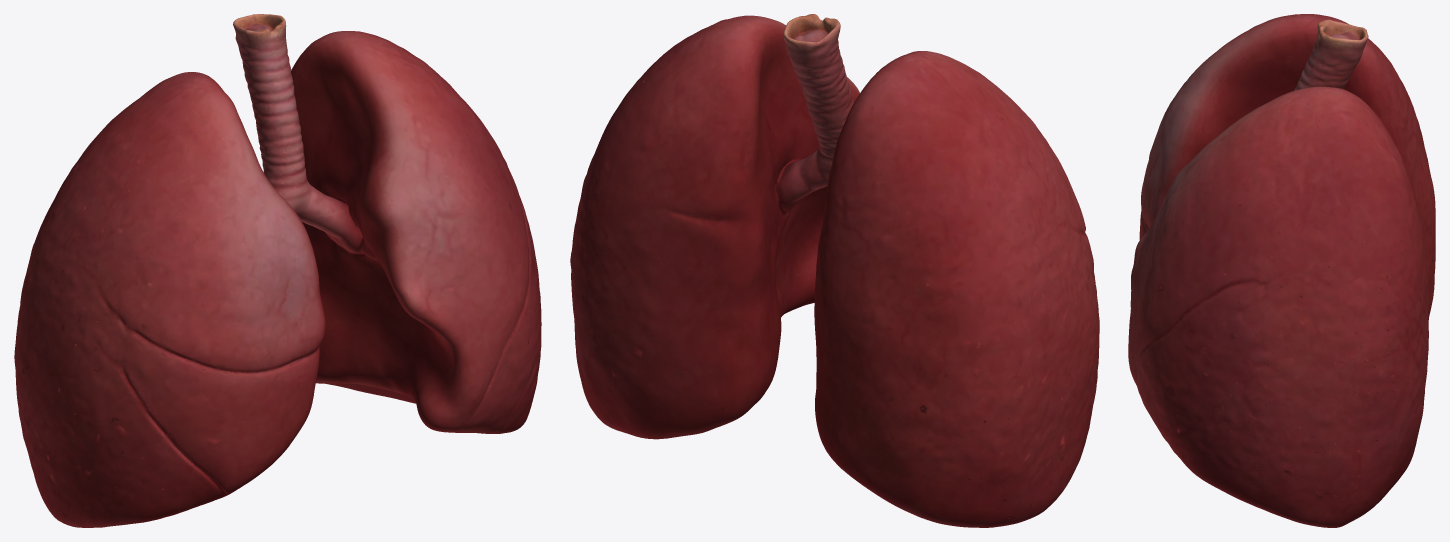
The model's file is Pulmones.glb.
The picture shows the model from 3 angles, left to right: view 1: azimuth 30°, elevation 25°; view 2: azimuth 150°, elevation 25°; view 3: azimuth 270°, elevation 25°; orthographic projection. The views are drawn at different scales.
Visible parts, largest first — view 1: geometry_0; view 2: geometry_0; view 3: geometry_0.
Part boxes in pixels (x1=…): geometry_0: x1=14, y1=14, x2=541, y2=527; geometry_0: x1=570, y1=14, x2=1099, y2=527; geometry_0: x1=1128, y1=14, x2=1435, y2=527.
Size of the model in its own units: 1 by 0.9094 by 0.6181.
Materials: 1 (1 with a texture image).
